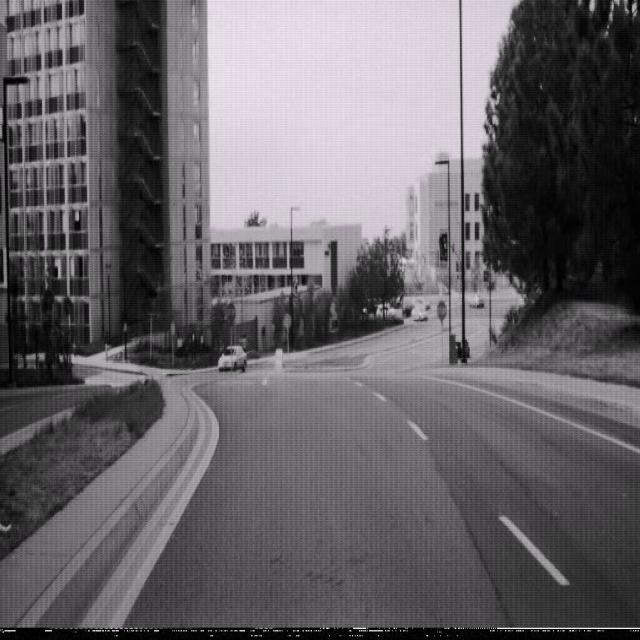stop_sign: (437, 298, 448, 321)
